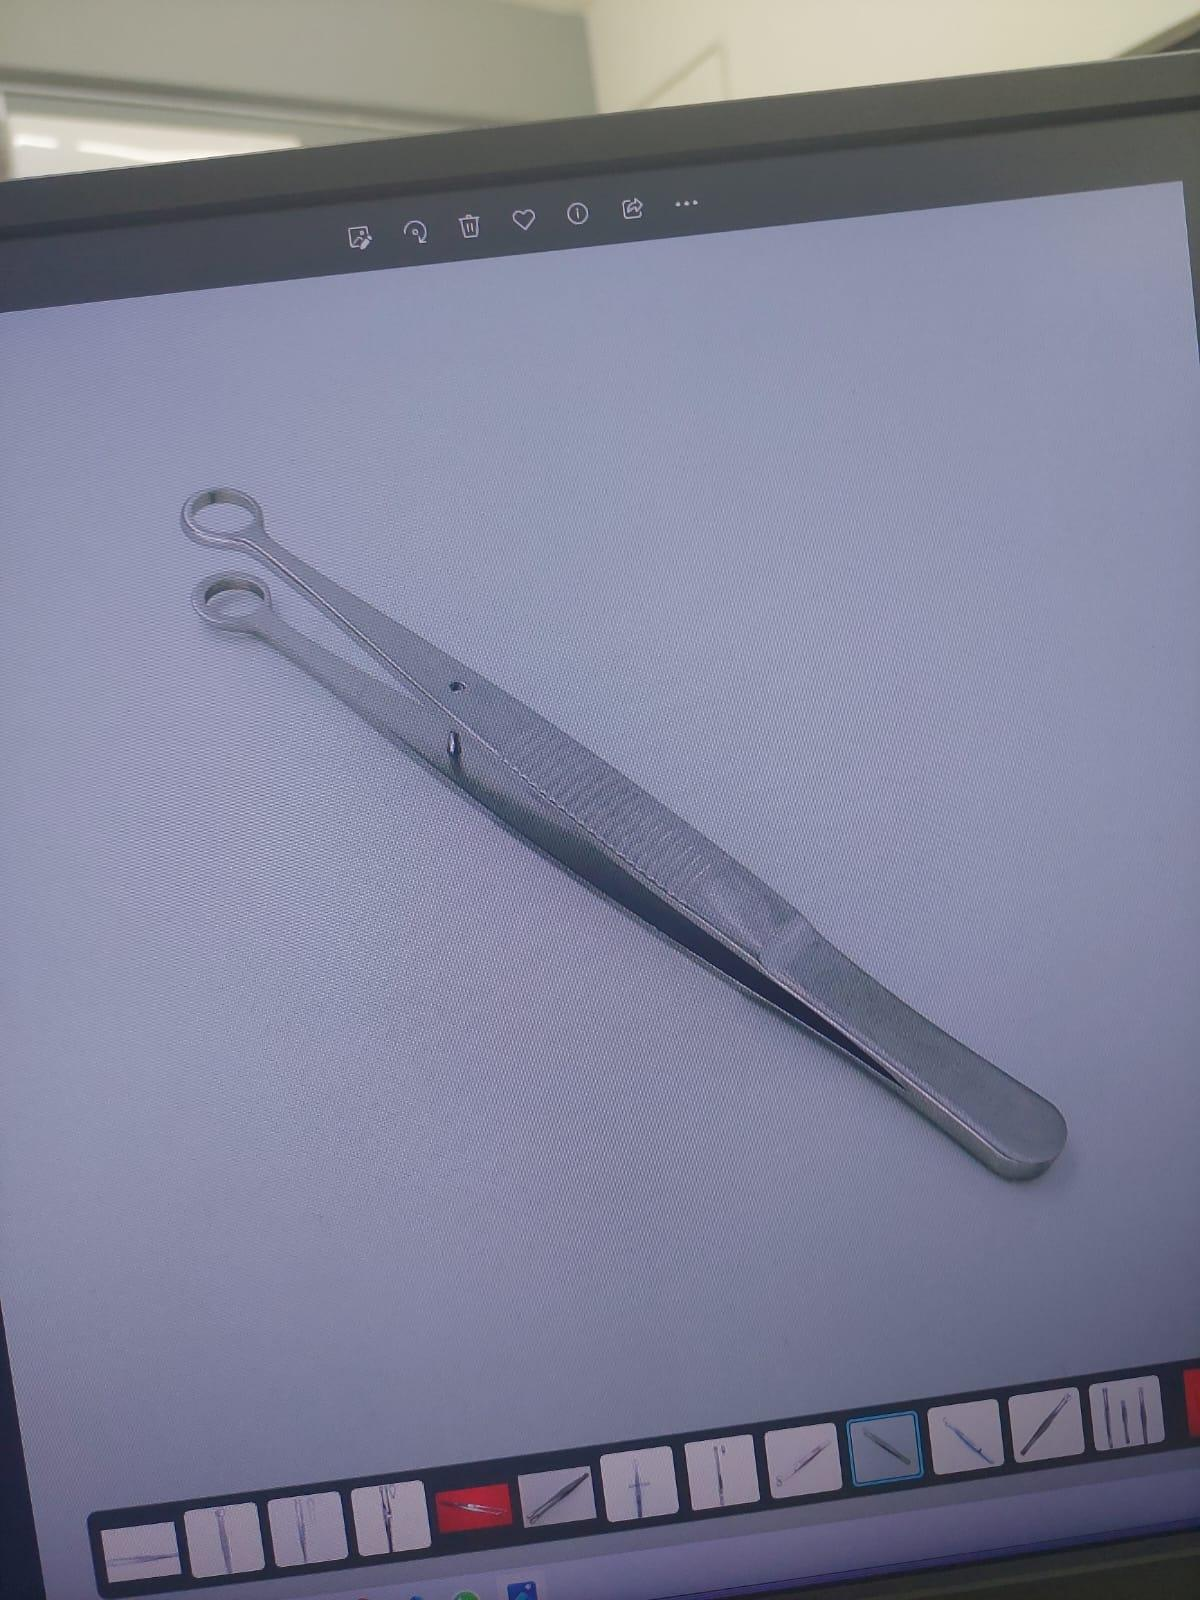Eye Intestinal Forceps: (163, 485, 1088, 1207)
